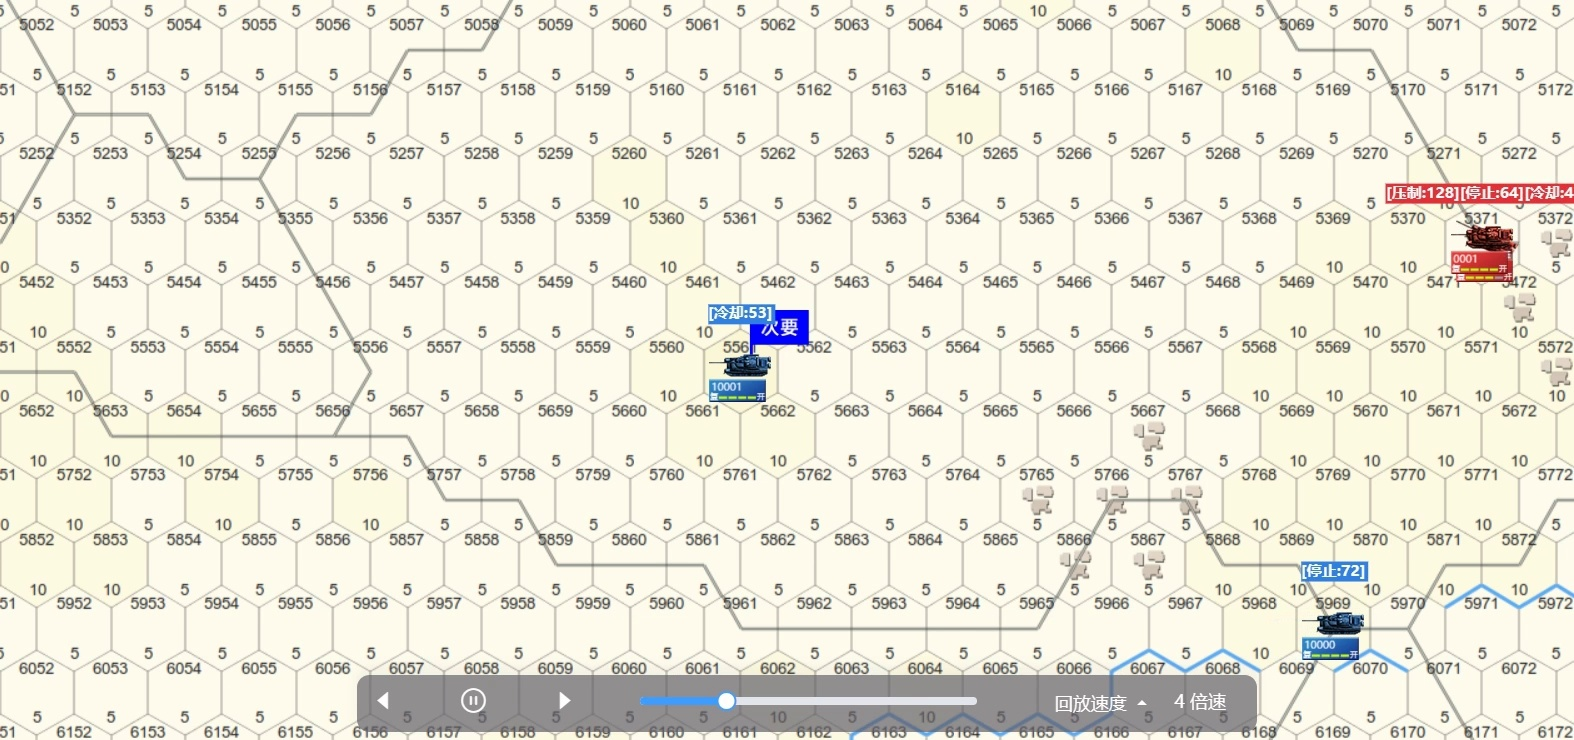blue_tank: (704, 351, 774, 407), (1304, 613, 1370, 662)
red_tank: (1466, 225, 1516, 282)
